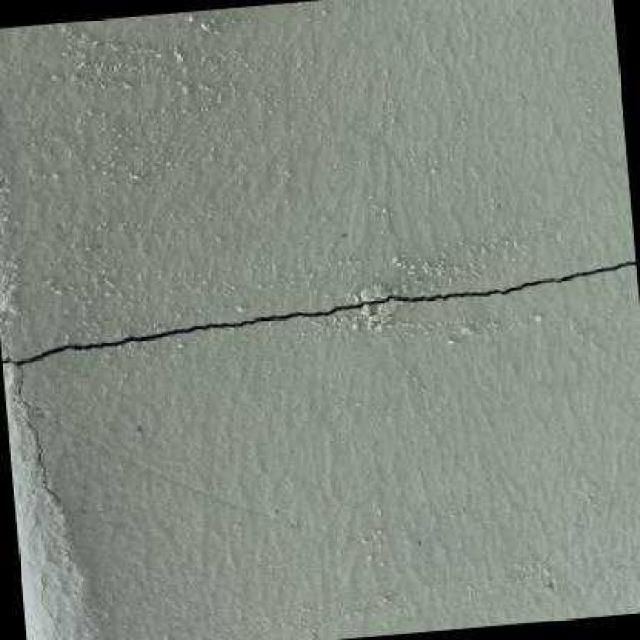D00: (2, 258, 636, 370)
